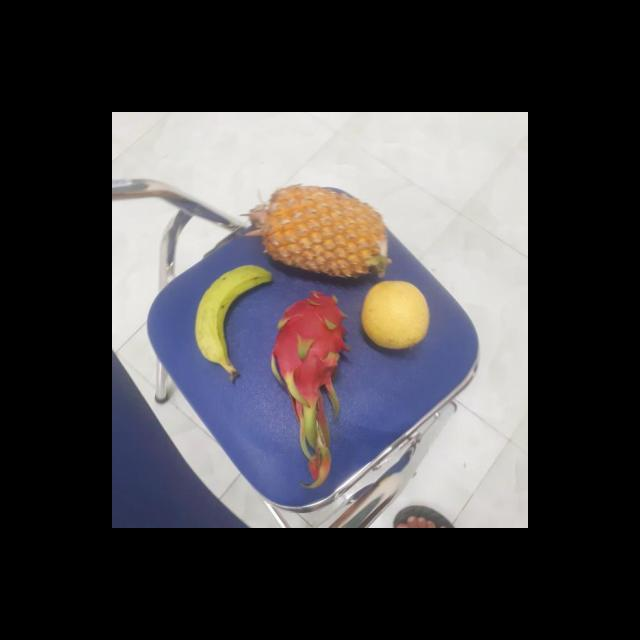banana: (194, 266, 276, 364)
pineapple: (257, 186, 391, 284)
pitaya: (270, 291, 350, 395)
